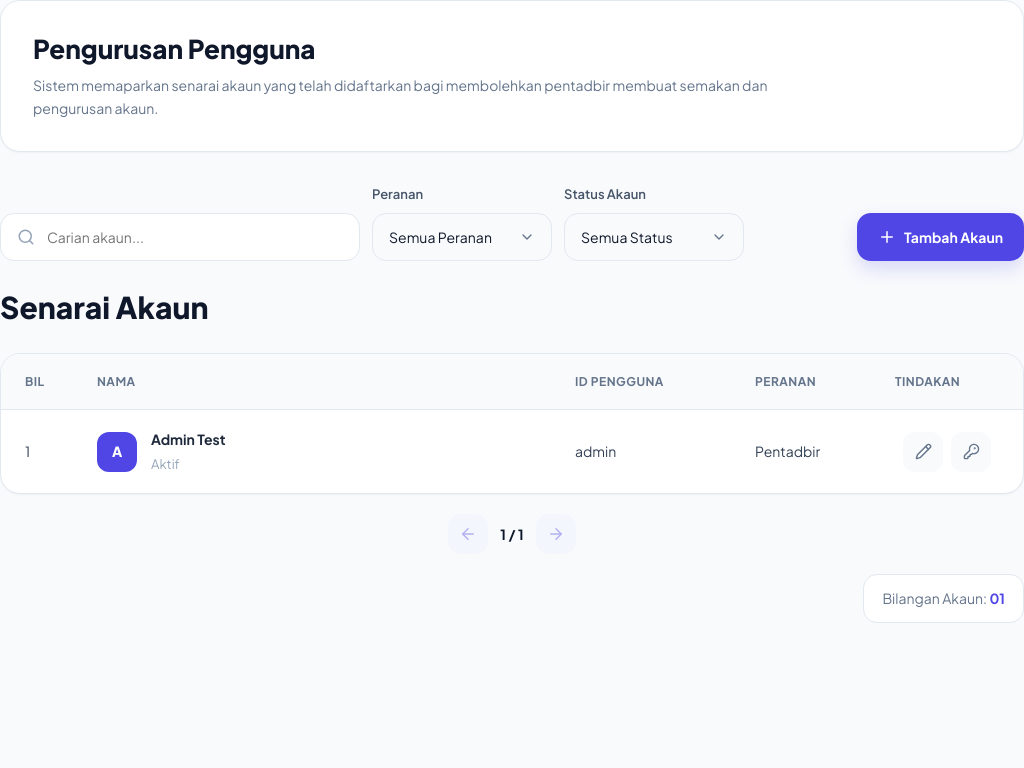
PengurusanAkaun.vue › membuka modal edit akaun
The width and height of the screenshot is (1024, 768).
Click the 1st button with class "ui-icon-button": (923, 452) [903,432,943,472]
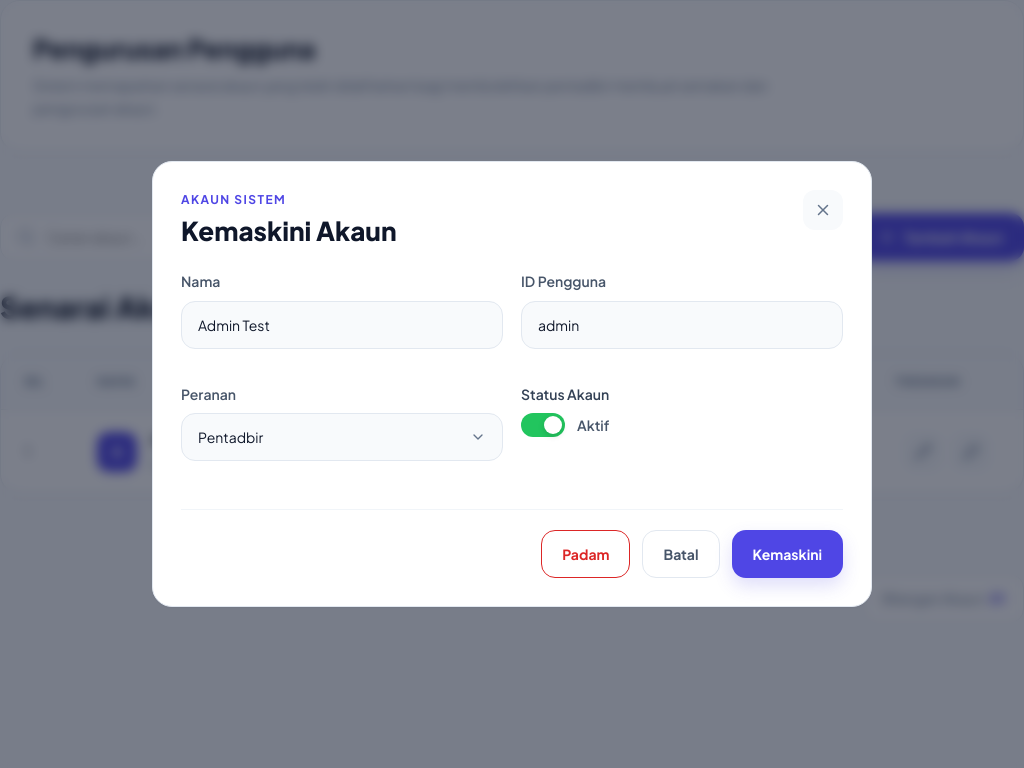
Expected: the text "Kemaskini Akaun" is shown, [181,215,396,246]
